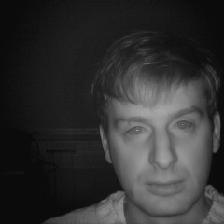normal: (75, 35, 223, 213)
